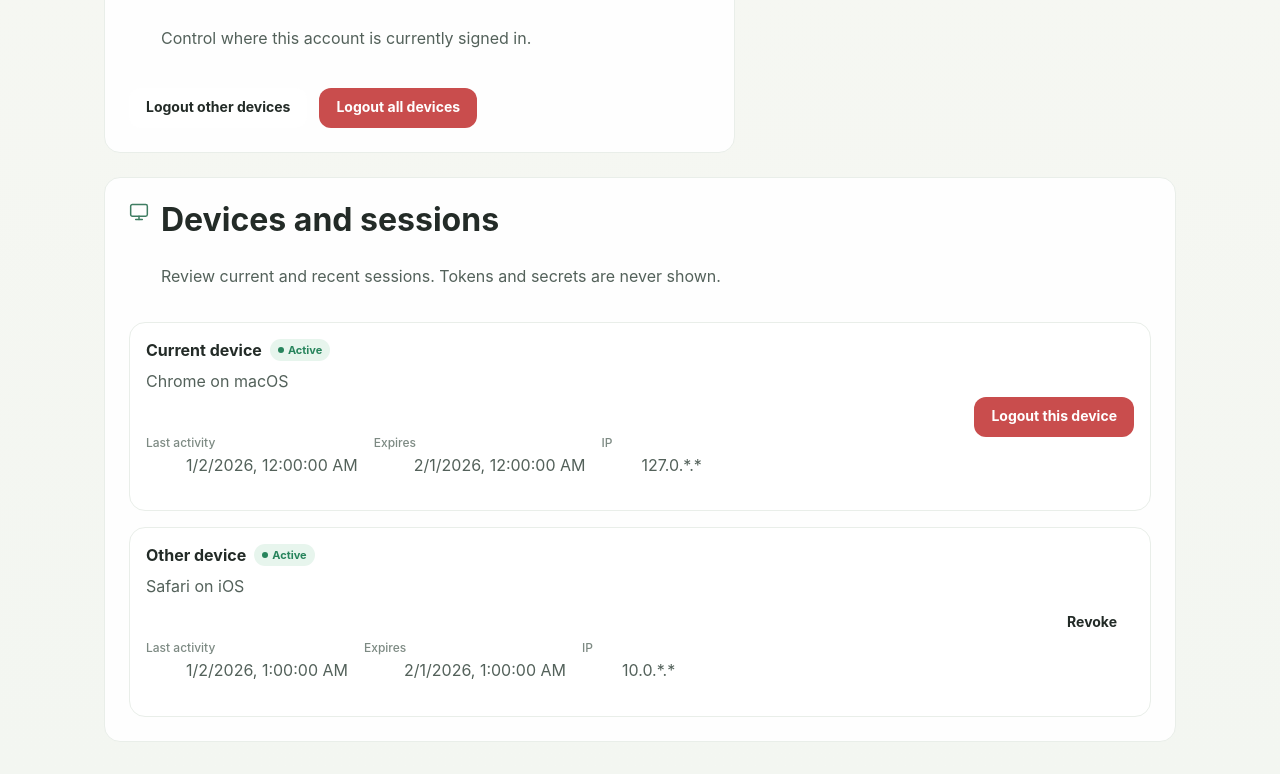
Test: AccountPage › revokes another device with confirmation
(page scrolled)
Click the button "Revoke": (1092, 622) [1050,602,1134,642]
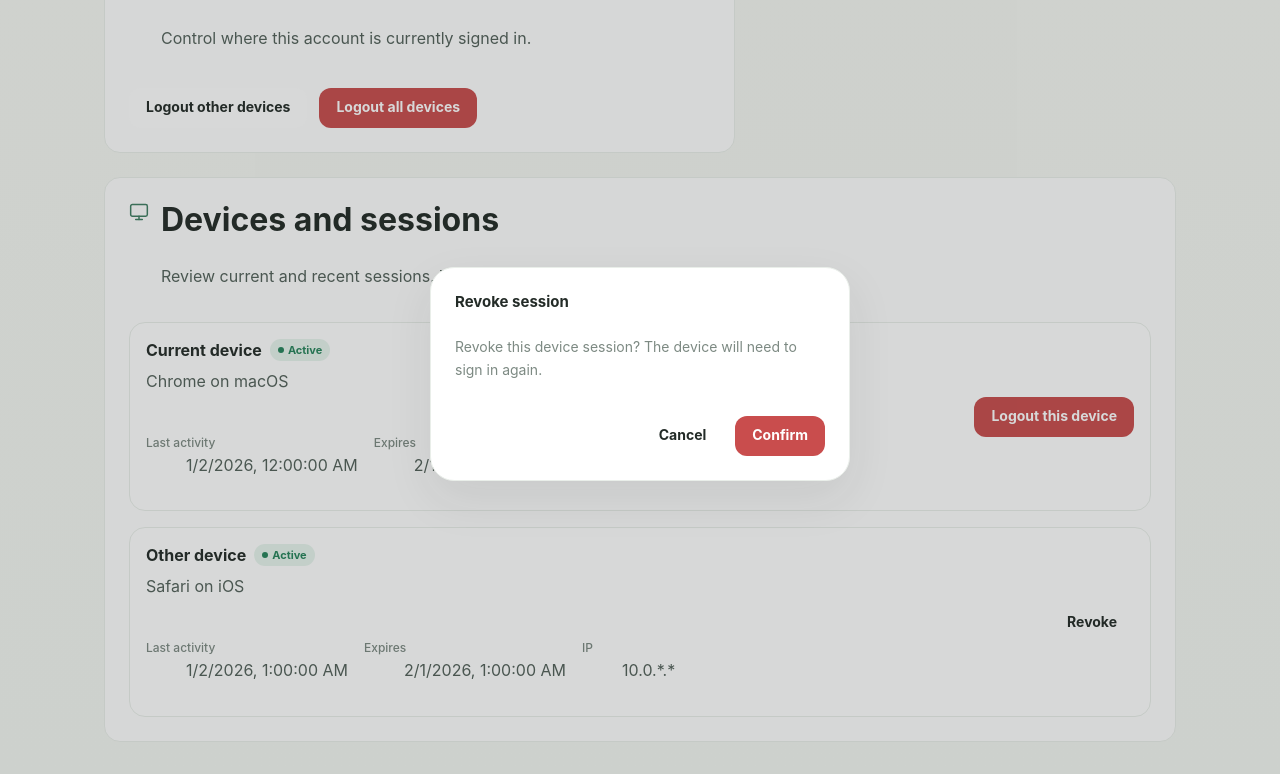
Check: the heading "Revoke session" is shown, box [455,292,569,311]
Click the button "Confirm": (780, 436) [735,416,825,456]
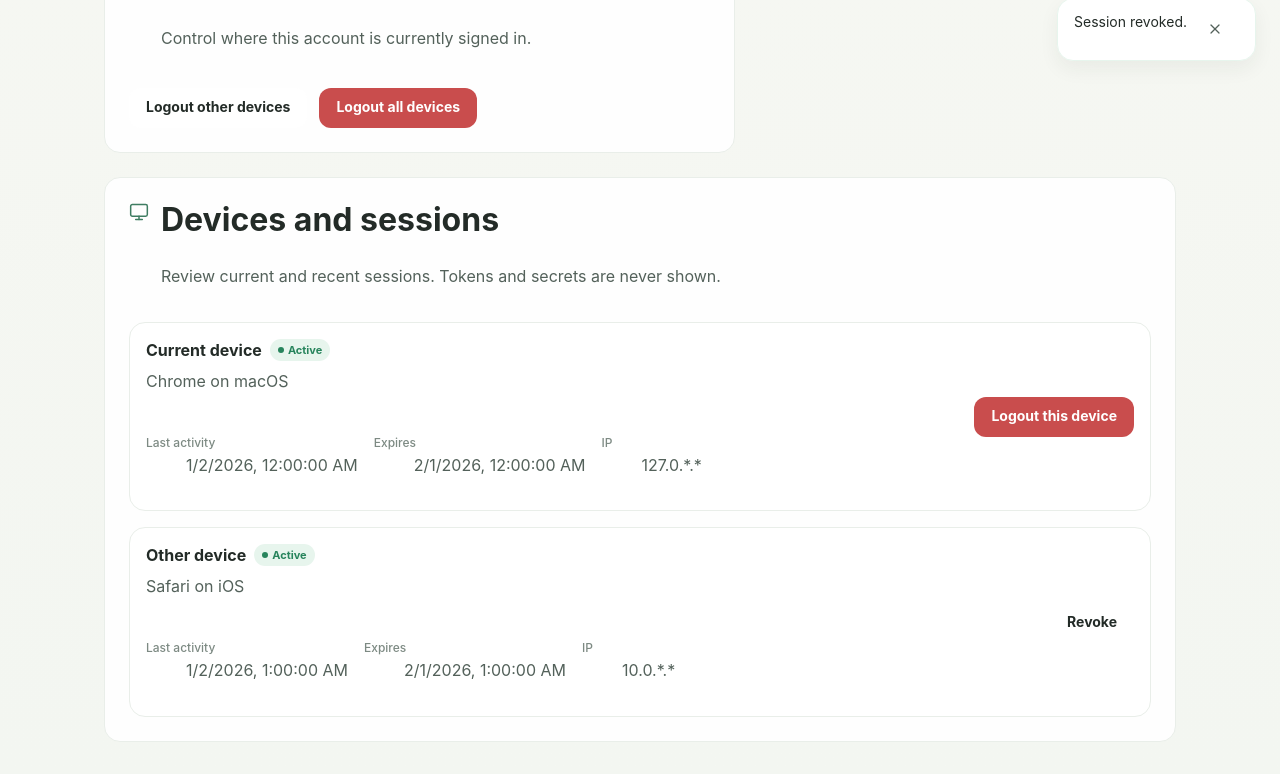
Check: the text "Session revoked." is shown, box [1074,11,1187,34]
